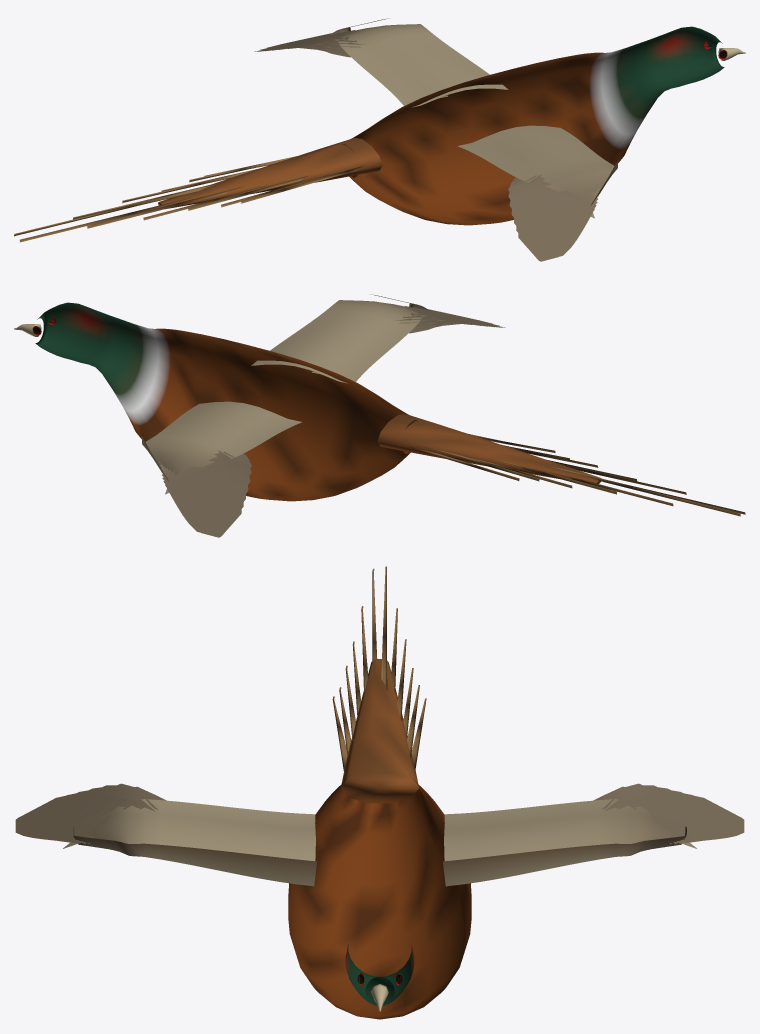
The model's file is SM_Bird_pheasant_flap3.glb.
The picture shows the model from 3 angles, top to bottom: view 1: azimuth 30°, elevation 25°; view 2: azimuth 150°, elevation 25°; view 3: azimuth 270°, elevation 25°; orthographic projection. The views are drawn at different scales.
Parts seen in each view (by area): view 1: SM_Bird_pheasant_flap3; view 2: SM_Bird_pheasant_flap3; view 3: SM_Bird_pheasant_flap3.
Boxes of the visible parts, <box> form: SM_Bird_pheasant_flap3: <box>14,18,745,261</box>; SM_Bird_pheasant_flap3: <box>14,294,745,537</box>; SM_Bird_pheasant_flap3: <box>15,566,744,1019</box>.
Size of the model in its own units: 0.8785 by 0.1618 by 0.6014.
